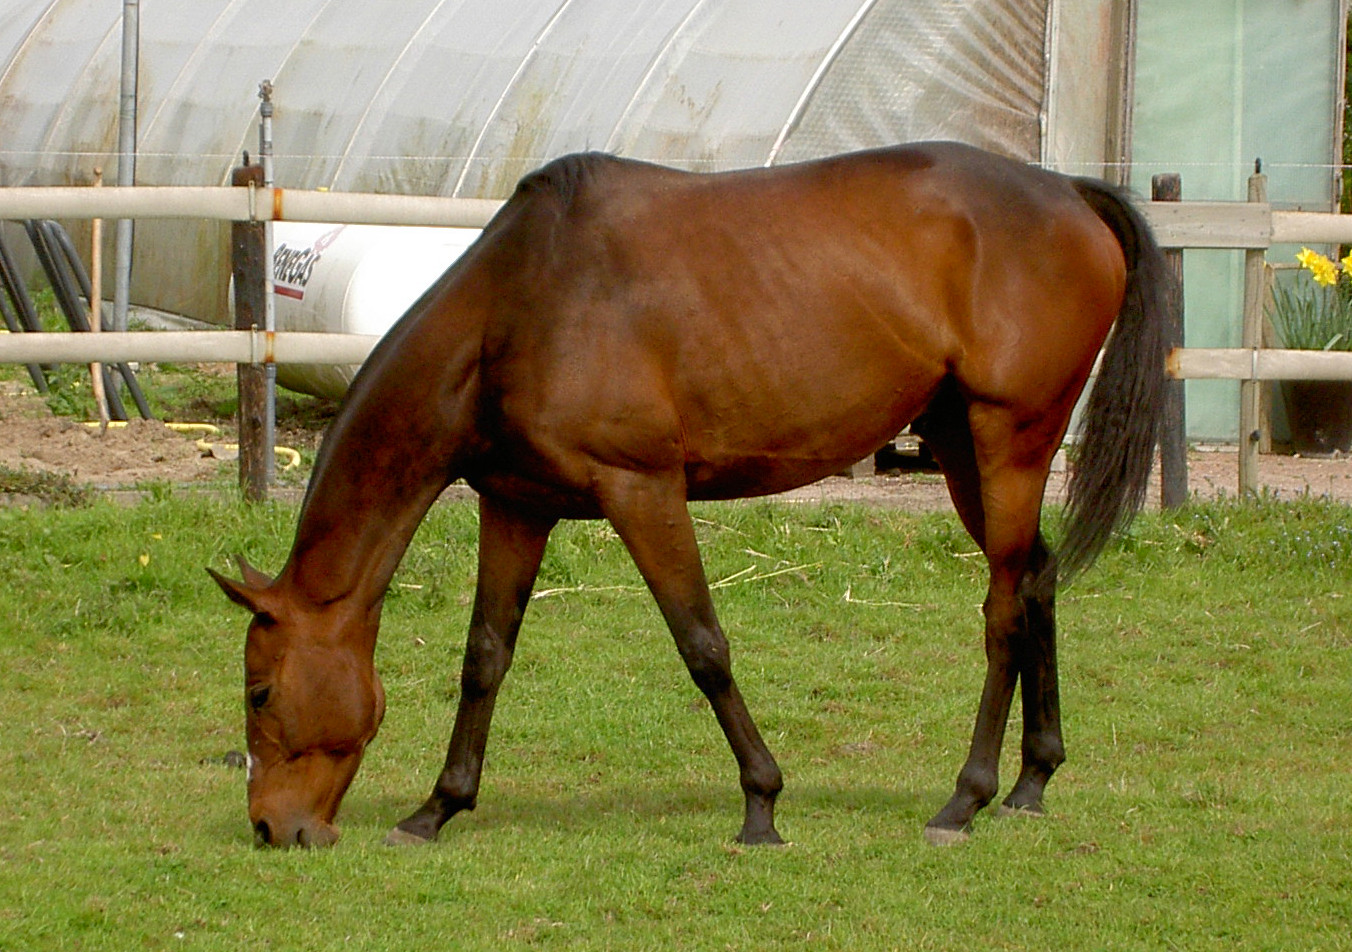horse: (223, 144, 1168, 855)
